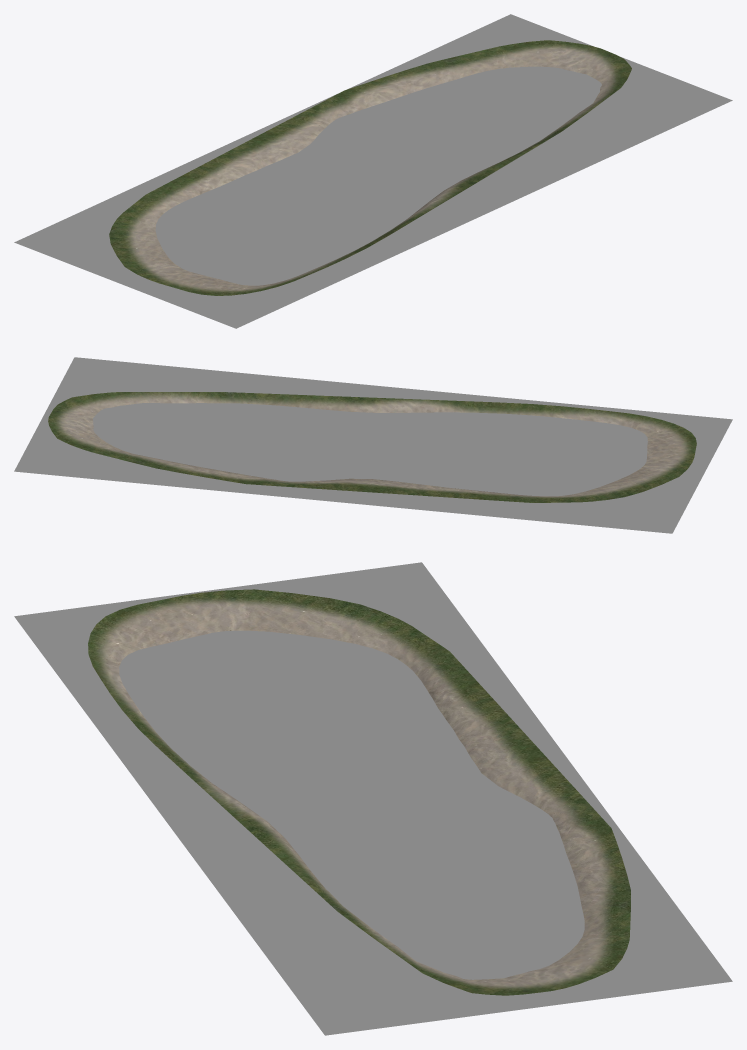
Rendered from land.obj.
The picture shows the model from 3 angles, top to bottom: view 1: azimuth 30°, elevation 25°; view 2: azimuth 150°, elevation 25°; view 3: azimuth 270°, elevation 25°; orthographic projection. The views are drawn at different scales.
Parts seen in each view (by area): view 1: ozero, land_ozero; view 2: ozero, land_ozero; view 3: ozero, land_ozero.
Part boxes in pixels (<box>): ozero: <box>14,14,732,328</box>; land_ozero: <box>109,40,631,295</box>; ozero: <box>14,357,732,533</box>; land_ozero: <box>48,392,696,502</box>; ozero: <box>14,562,732,1035</box>; land_ozero: <box>88,589,630,995</box>.
Size of what is drawn, in the model's own units: 18877 by 649 by 12117.
